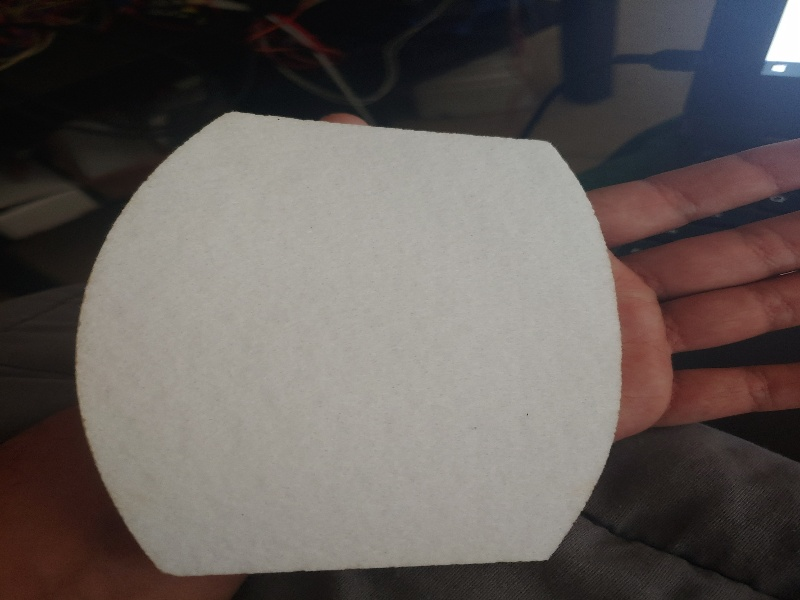Filter: (76, 110, 621, 578)
